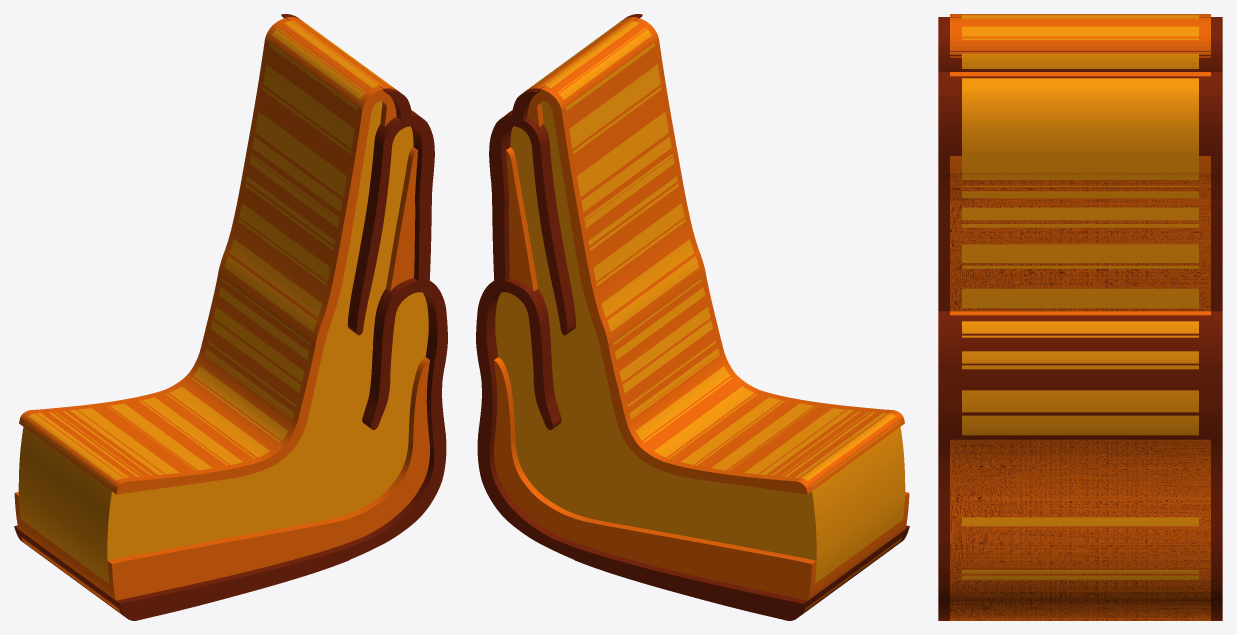
Rendered from U+1FAF8.obj.
3 renders of one model, left to right at view 1: azimuth 30°, elevation 25°; view 2: azimuth 150°, elevation 25°; view 3: azimuth 270°, elevation 25°, orthographic. The views are drawn at different scales.
Visible parts, largest first — view 1: U+1FAF8_layer00_obj00, U+1FAF8_layer01_obj02, U+1FAF8_layer02_obj00, U+1FAF8_layer01_obj00, U+1FAF8_layer01_obj01; view 2: U+1FAF8_layer00_obj00, U+1FAF8_layer01_obj02, U+1FAF8_layer02_obj00, U+1FAF8_layer01_obj00, U+1FAF8_layer01_obj01; view 3: U+1FAF8_layer00_obj00, U+1FAF8_layer02_obj00, U+1FAF8_layer01_obj00, U+1FAF8_layer01_obj01, U+1FAF8_layer01_obj02.
Part boxes in pixels (x1,y1,x2,y2): U+1FAF8_layer00_obj00: (18,20,428,606); U+1FAF8_layer01_obj02: (19,17,397,494); U+1FAF8_layer02_obj00: (14,14,447,620); U+1FAF8_layer01_obj00: (14,357,429,613); U+1FAF8_layer01_obj01: (386,147,417,291); U+1FAF8_layer00_obj00: (495,20,905,606); U+1FAF8_layer01_obj02: (526,17,904,494); U+1FAF8_layer02_obj00: (476,14,909,620); U+1FAF8_layer01_obj00: (494,357,909,613); U+1FAF8_layer01_obj01: (506,147,537,291); U+1FAF8_layer00_obj00: (962,14,1198,579); U+1FAF8_layer02_obj00: (938,17,1222,620); U+1FAF8_layer01_obj00: (950,439,1210,620); U+1FAF8_layer01_obj01: (950,156,1210,315); U+1FAF8_layer01_obj02: (950,14,1210,76).
Bounding box in the file's own units: 0.2164 × 0.2914 × 0.12.
